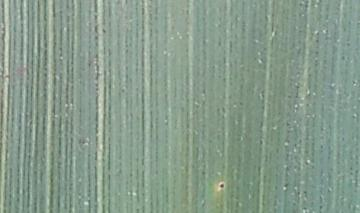tarspot: (216, 180, 227, 191), (98, 26, 109, 36)
